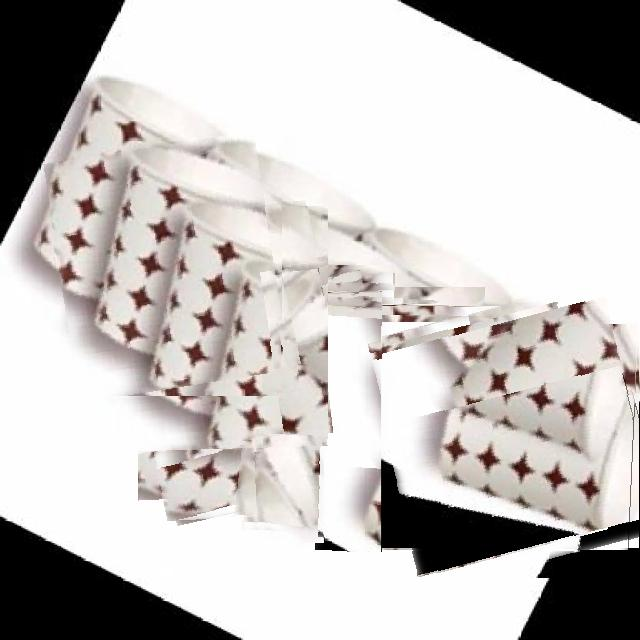non-biodegradable: (382, 291, 640, 578), (138, 266, 396, 524), (324, 304, 581, 560), (247, 292, 498, 543), (52, 138, 283, 396), (101, 206, 328, 452)
